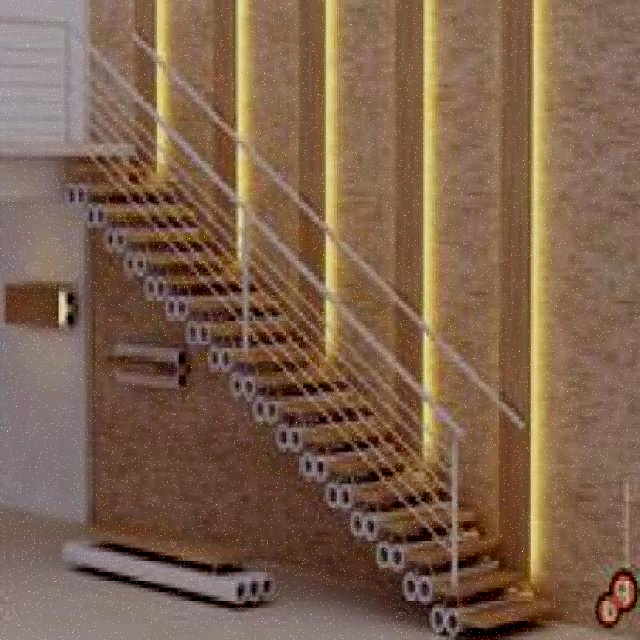stair: (68, 94, 568, 634)
